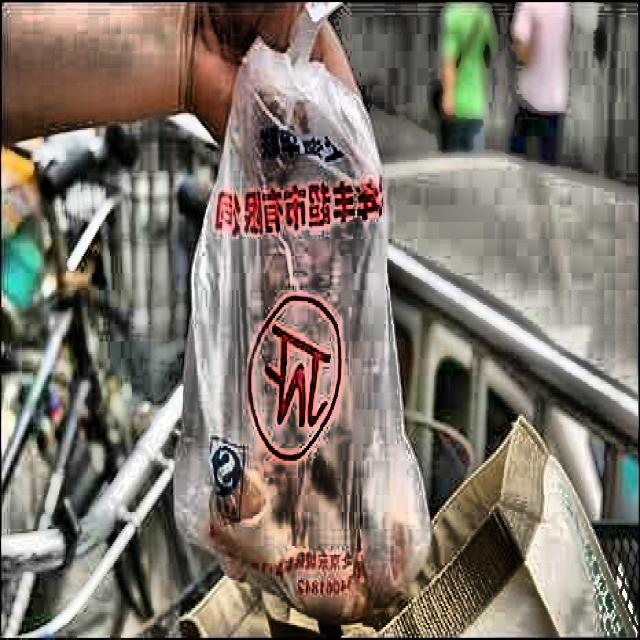Plastic: (165, 22, 457, 620)
